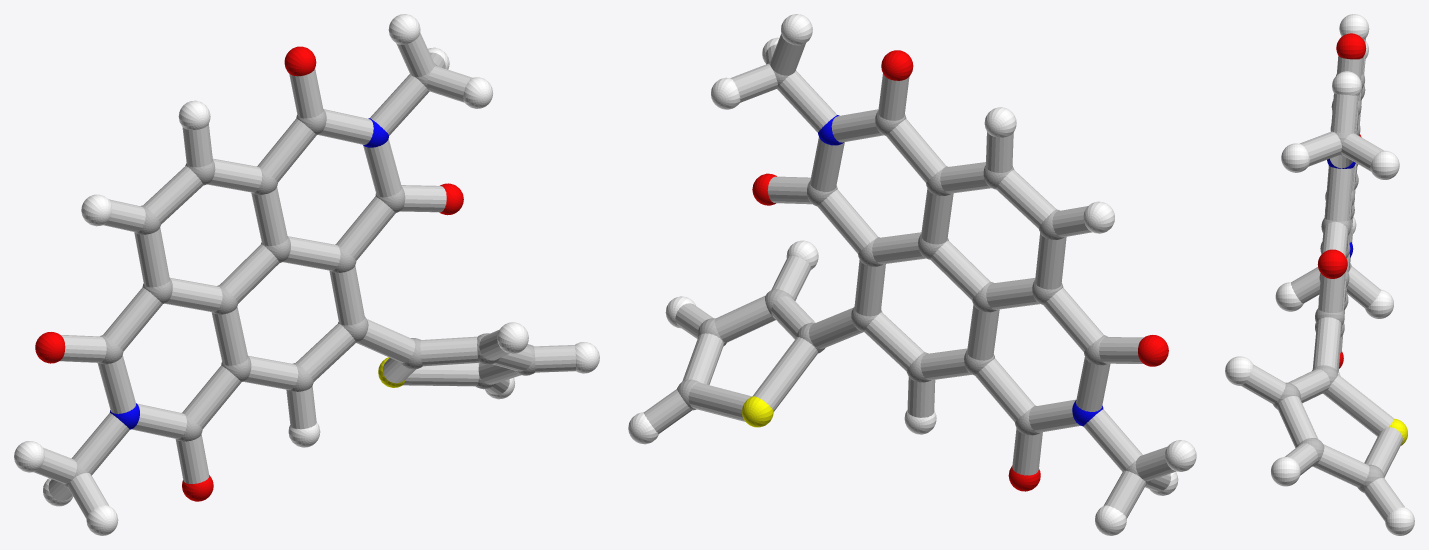
The model's file is Dimethyl_Naphthalene_Dicarboximide_Phi_15_Theta_60_Thiophene.glb.
3 views of the same model, side by side, from view 1: azimuth 30°, elevation 25°; view 2: azimuth 150°, elevation 25°; view 3: azimuth 270°, elevation 25° (orthographic). The views are drawn at different scales.
Visible parts, largest first — view 1: grp14119, grp7241, grp1, grp12309, grp11585; view 2: grp14119, grp7241, grp1, grp12309, grp13757, grp11585; view 3: grp14119, grp7241, grp1, grp12309.
Boxes of the visible parts, box(x1,y1,x2,y2) form: grp14119: box(34, 33, 575, 518); grp7241: box(14, 14, 599, 535); grp1: box(63, 63, 535, 487); grp12309: box(35, 46, 463, 501); grp11585: box(110, 118, 388, 429); grp14119: box(643, 34, 1175, 518); grp7241: box(628, 14, 1196, 535); grp1: box(677, 61, 1150, 484); grp12309: box(752, 50, 1168, 491); grp13757: box(742, 396, 773, 427); grp11585: box(818, 115, 1103, 426); grp14119: box(1241, 36, 1404, 520); grp7241: box(1225, 14, 1414, 535); grp1: box(1273, 73, 1384, 492); grp12309: box(1317, 33, 1366, 368).
Size of the model in its own units: 12.01 by 9 by 3.82.
